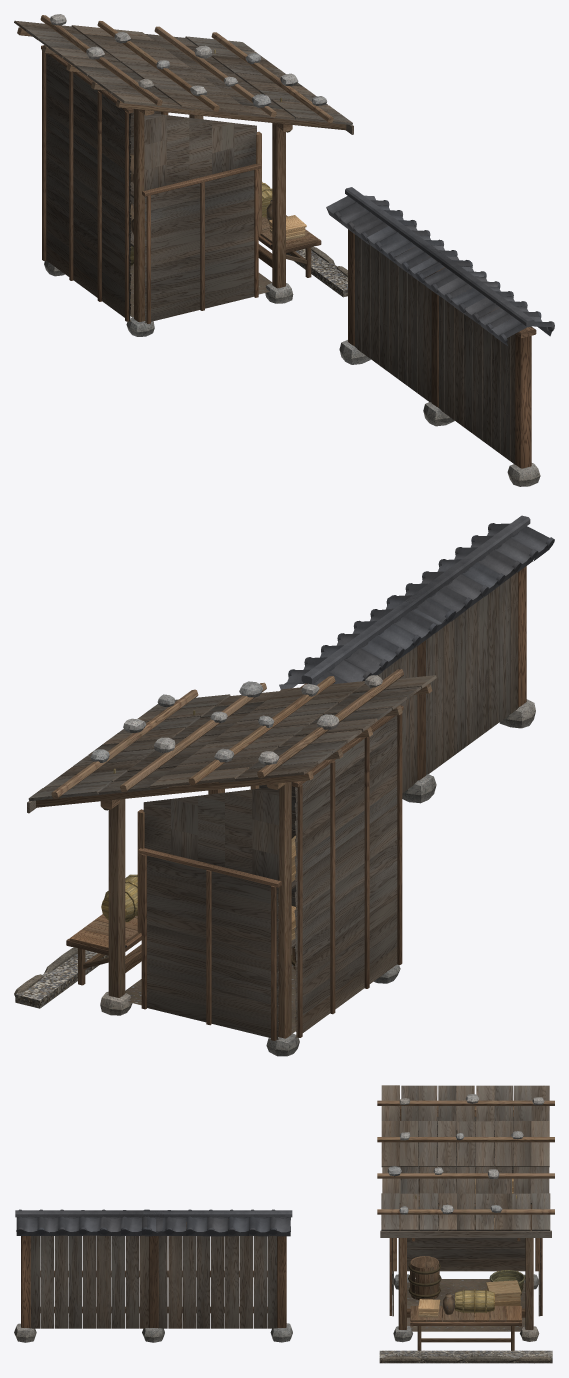
Rendered from nishi28.glb.
3 views of the same model, one above another, from view 1: azimuth 30°, elevation 25°; view 2: azimuth 150°, elevation 25°; view 3: azimuth 270°, elevation 25° (orthographic). The views are drawn at different scales.
Visible parts, largest first — view 1: nishi28_wood_weathered, nishi28_wood_aged, nishi28_wood_dark, nishi28_tile_ibushi, nishi28_stone_granite, nishi28_tile_manju, nishi28_gravel; view 2: nishi28_wood_weathered, nishi28_wood_aged, nishi28_wood_dark, nishi28_tile_ibushi, nishi28_stone_granite, nishi28_gravel, nishi28_tile_manju, nishi28_straw; view 3: nishi28_wood_weathered, nishi28_wood_aged, nishi28_tile_ibushi, nishi28_wood_dark, nishi28_stone_granite, nishi28_earth_floor#tataki, nishi28_gravel, nishi28_wood_fresh, nishi28_stone_granite#curb, nishi28_straw, nishi28_tile_manju, nishi28_bamboo#dark (+1 smaller).
Part boxes in pixels (x1=…): nishi28_wood_weathered: x1=14, y1=20, x2=515, y2=464; nishi28_wood_aged: x1=17, y1=15, x2=346, y2=322; nishi28_wood_dark: x1=41, y1=45, x2=536, y2=468; nishi28_tile_ibushi: x1=326, y1=187, x2=552, y2=345; nishi28_stone_granite: x1=44, y1=14, x2=540, y2=486; nishi28_tile_manju: x1=334, y1=200, x2=554, y2=342; nishi28_gravel: x1=286, y1=248, x2=347, y2=297; nishi28_wood_weathered: x1=27, y1=572, x2=519, y2=1039; nishi28_wood_aged: x1=36, y1=669, x2=432, y2=1038; nishi28_wood_dark: x1=66, y1=566, x2=526, y2=1040; nishi28_tile_ibushi: x1=279, y1=515, x2=549, y2=689; nishi28_stone_granite: x1=90, y1=675, x2=535, y2=1056; nishi28_gravel: x1=15, y1=950, x2=108, y2=1008; nishi28_tile_manju: x1=288, y1=523, x2=554, y2=680; nishi28_straw: x1=101, y1=710, x2=195, y2=922; nishi28_wood_weathered: x1=29, y1=1085, x2=551, y2=1328; nishi28_wood_aged: x1=377, y1=1100, x2=554, y2=1350; nishi28_tile_ibushi: x1=15, y1=1210, x2=292, y2=1236; nishi28_wood_dark: x1=21, y1=1219, x2=542, y2=1327; nishi28_stone_granite: x1=14, y1=1094, x2=544, y2=1342; nishi28_earth_floor#tataki: x1=407, y1=1279, x2=525, y2=1331; nishi28_gravel: x1=379, y1=1350, x2=552, y2=1363; nishi28_wood_fresh: x1=418, y1=1178, x2=521, y2=1317; nishi28_stone_granite#curb: x1=380, y1=1356, x2=552, y2=1363; nishi28_straw: x1=415, y1=1195, x2=516, y2=1313; nishi28_tile_manju: x1=16, y1=1209, x2=277, y2=1234; nishi28_bamboo#dark: x1=408, y1=1214, x2=494, y2=1298.
Bounding box in the file's own units: 2.85 × 2.84 × 7.19.
12 materials, 11 textured.
